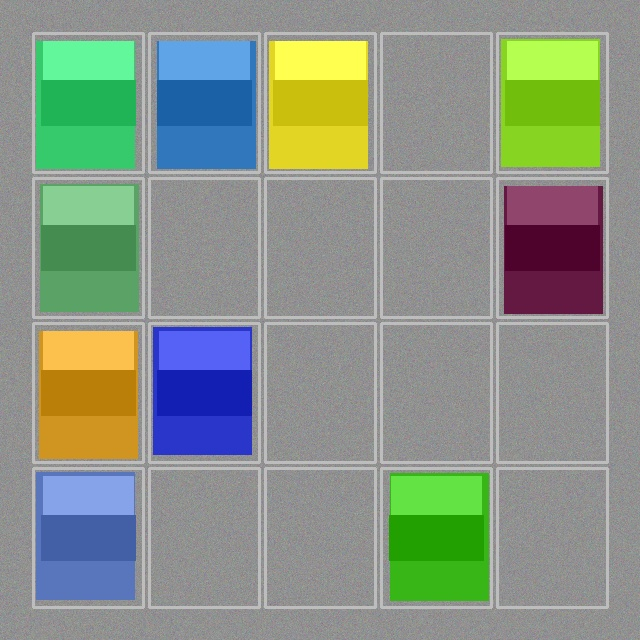space-empty: (383, 35, 489, 170), (151, 180, 257, 315), (267, 180, 373, 315), (383, 180, 489, 315), (267, 325, 373, 460), (383, 325, 489, 460), (499, 325, 605, 460), (151, 470, 257, 605), (267, 470, 373, 605), (499, 470, 605, 605)
space-occupied: (35, 35, 141, 170), (151, 35, 257, 170), (267, 35, 373, 170), (499, 35, 605, 170), (35, 180, 141, 315), (499, 180, 605, 315), (35, 325, 141, 460), (151, 325, 257, 460), (35, 470, 141, 605), (383, 470, 489, 605)
